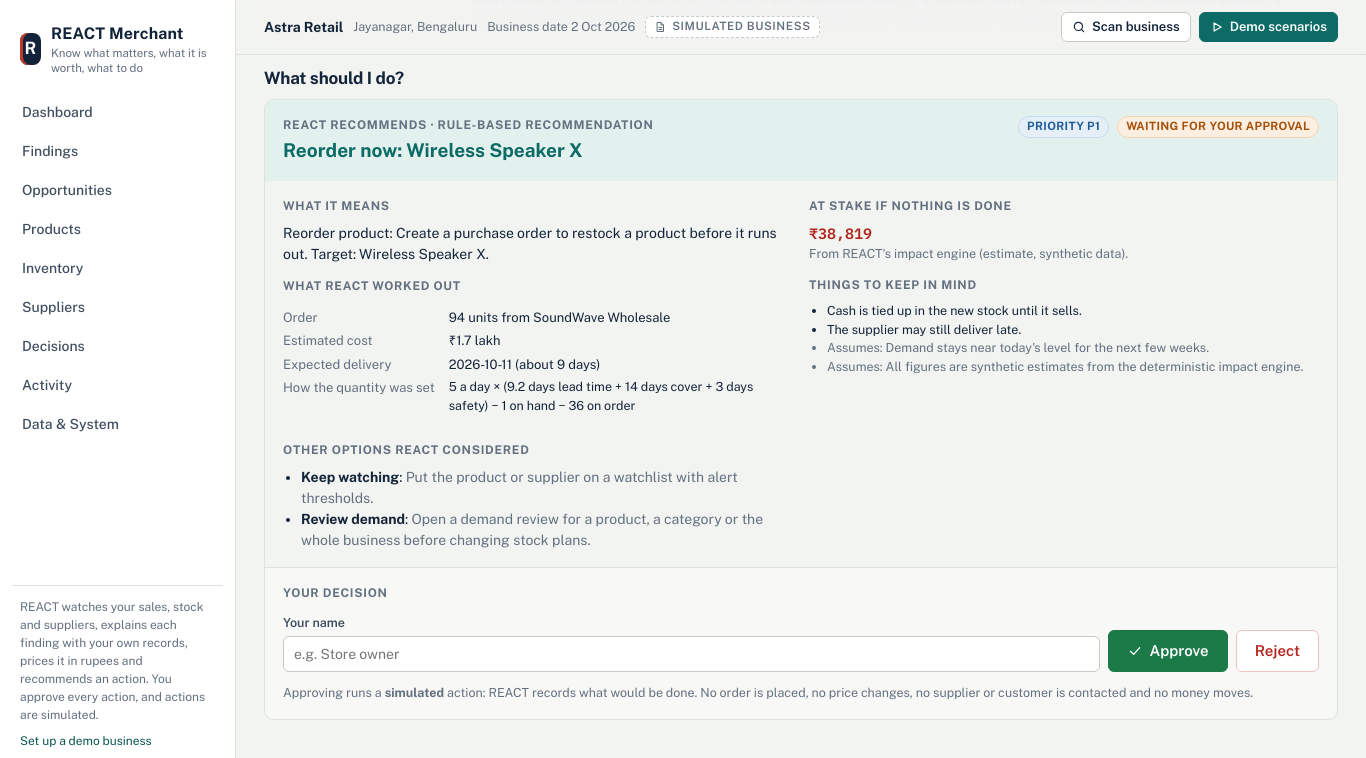
Test: Decision and approval › requires a name, then approves through the backend and shows the simulated result
The image size is (1366, 758).
(page scrolled)
Click the button "Approve" at (1168, 651), box [1108, 630, 1228, 672]
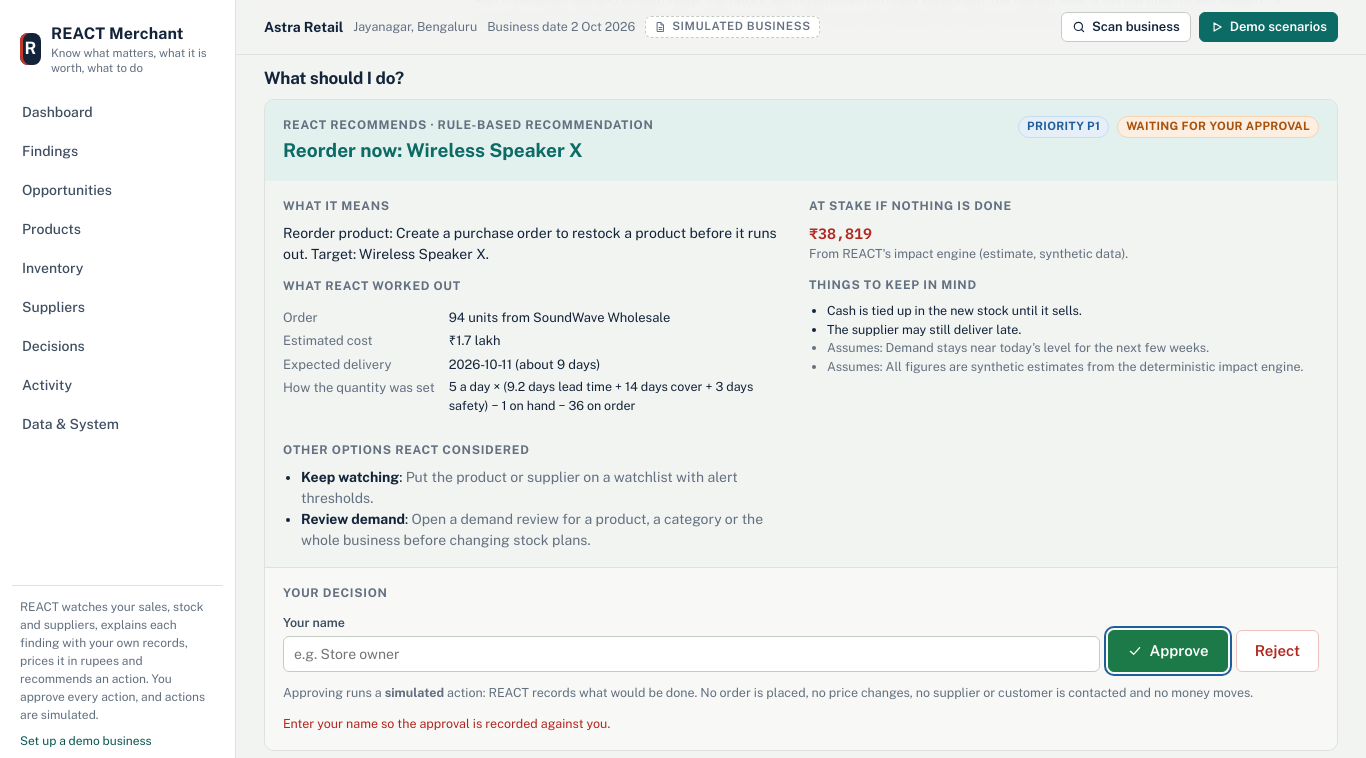
Expected: the message shows "Enter your name", [283, 716, 610, 731]
Type "Test reviewer" into the field labelled "Your name" at (692, 654), box [283, 636, 1100, 672]
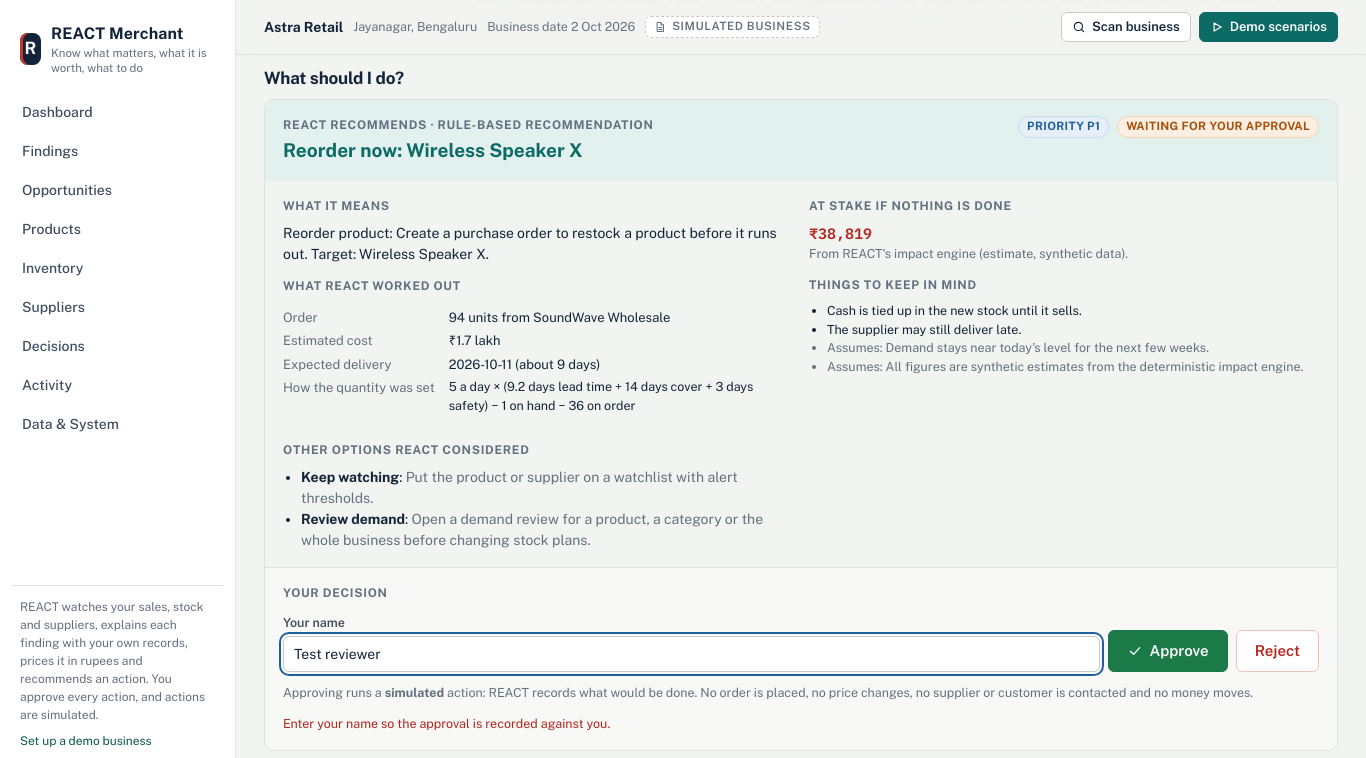
Click the button "Approve" at (1168, 651), box [1108, 630, 1228, 672]
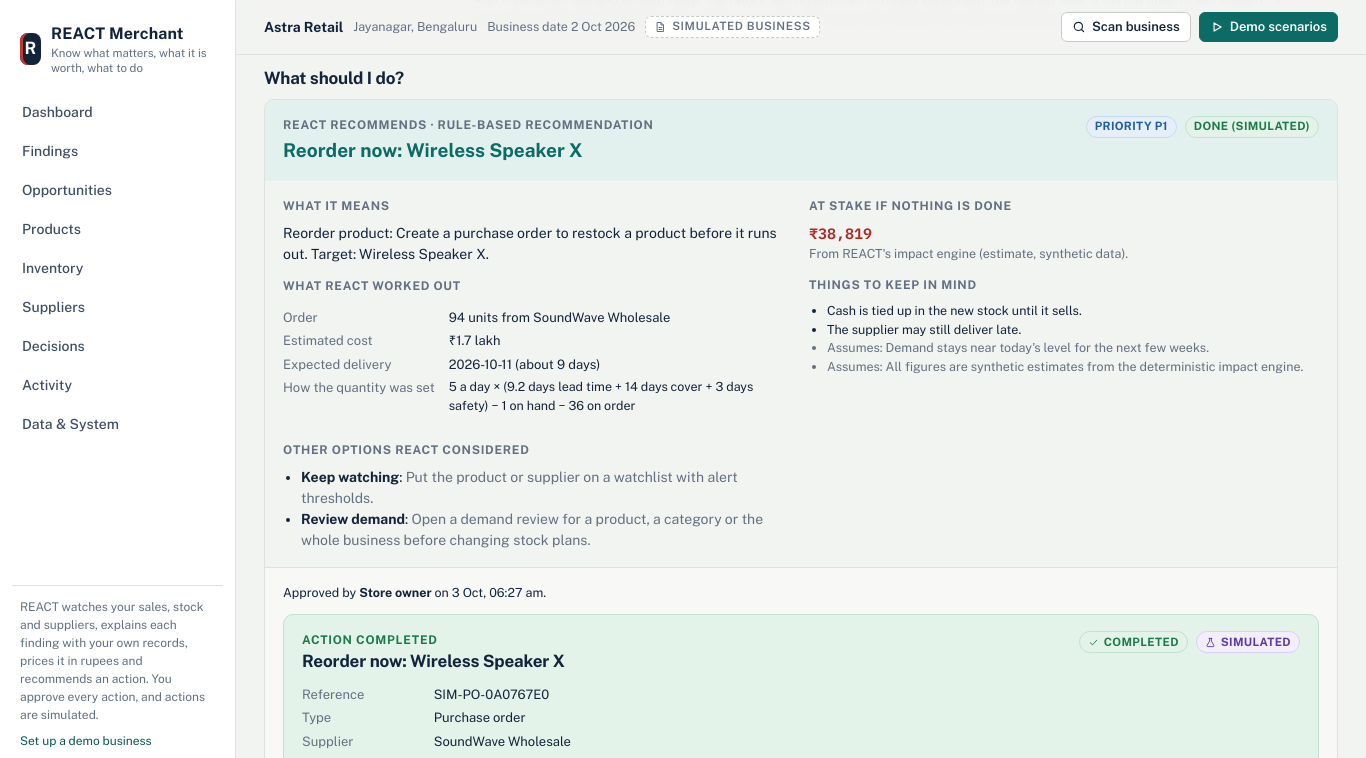
Expected: the text "Action completed" is shown, [302, 633, 438, 647]
Expected: the text "SIM-PO-0A0767E0" is shown, [434, 686, 549, 702]
